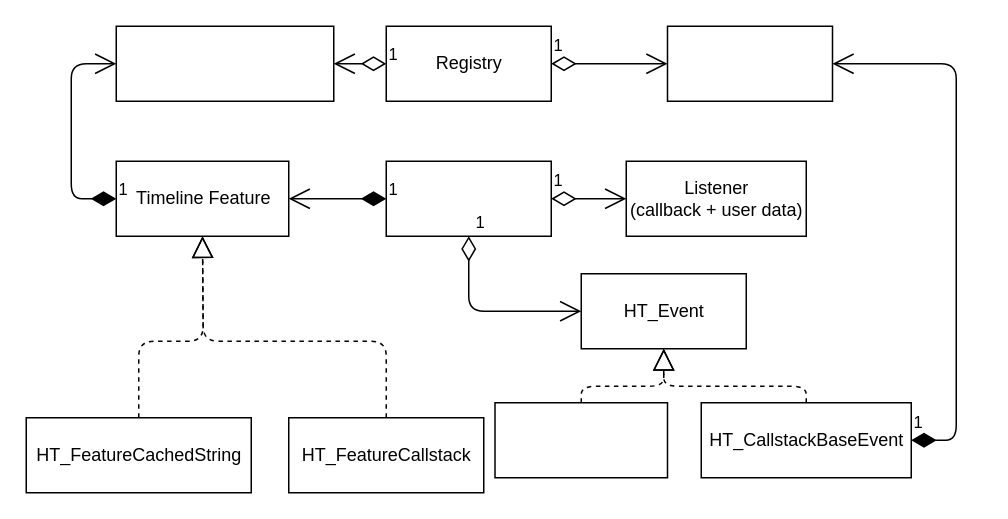
The diagram is 1008 pixels wide and 519 high, and some of its shapes have lost their labels. The shapes that lost their labels are listed below. From the top down, each one's centre as x and y in pixels, then its label:
At [224,63]: "Timeline Feature Type".
At [749,63]: "HT_EventKlass".
At [468,198]: "HT_Timeline".
At [581,439]: "HT_SystemInfoEvent".
